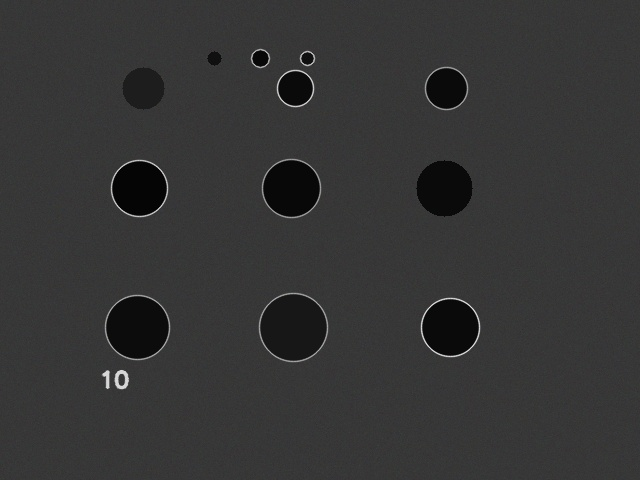hole: (259, 293, 327, 361), (105, 295, 169, 359), (262, 159, 320, 217), (421, 298, 479, 356), (111, 160, 167, 216), (416, 160, 472, 216), (122, 67, 164, 109), (425, 67, 467, 109), (277, 70, 313, 106), (251, 49, 269, 67), (207, 51, 221, 65), (300, 51, 314, 65)
